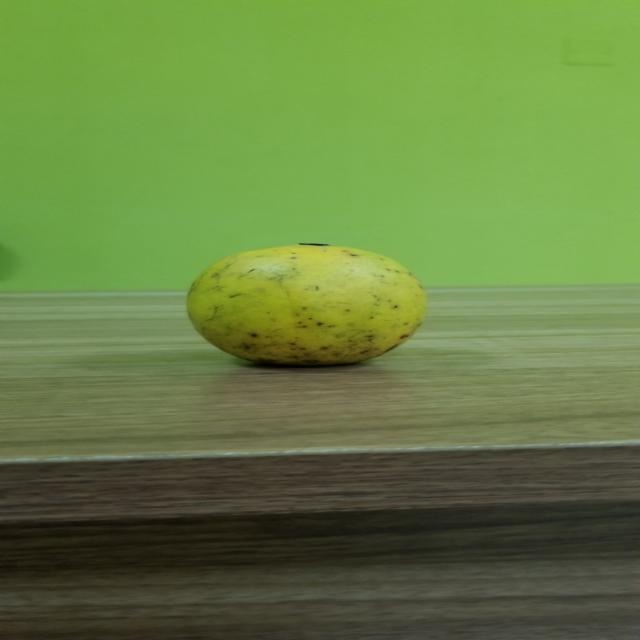agrume: (170, 236, 457, 378)
